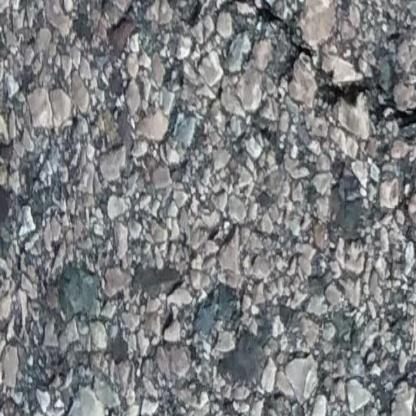Cracks: (180, 0, 416, 139)
